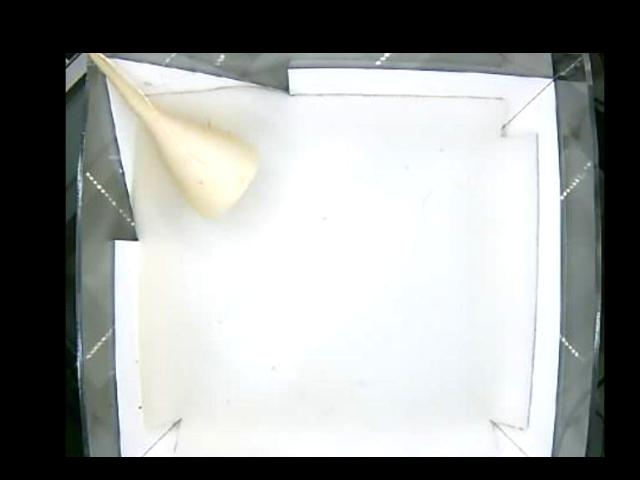Mooli: (145, 108, 262, 221)
